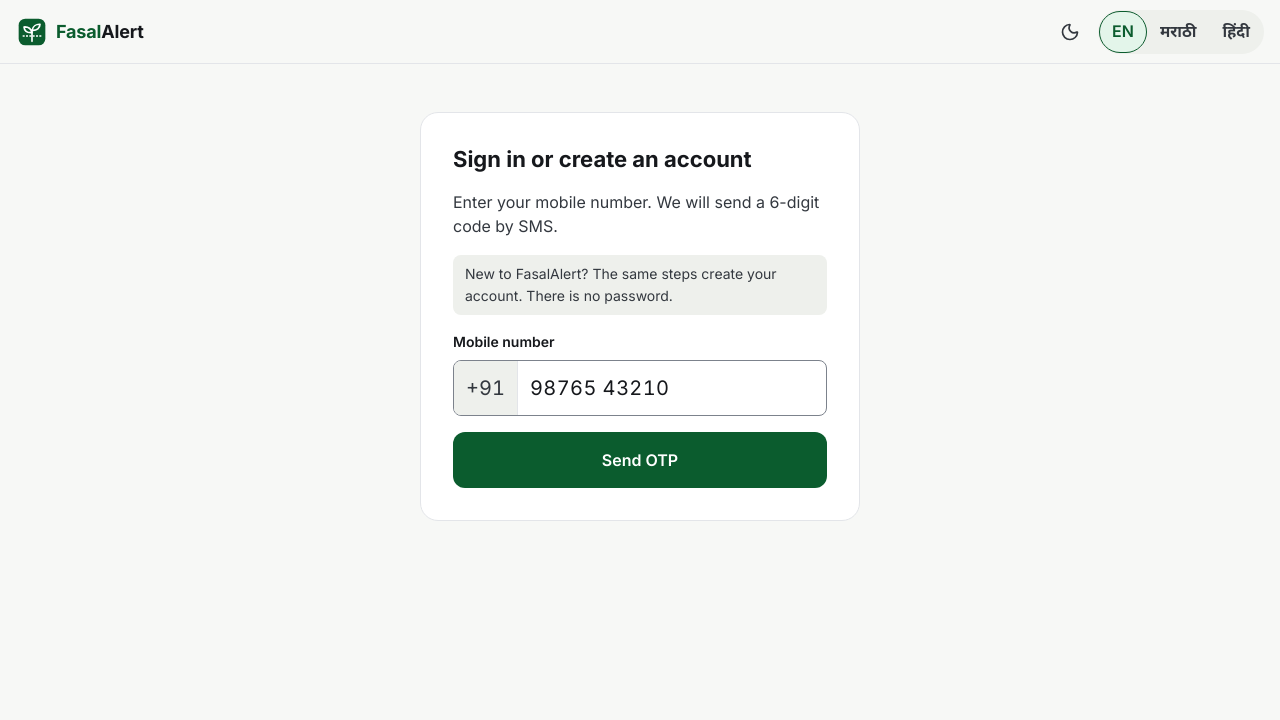
shows the server demo OTP with a copy control when demo_code is returned
Check: the field labelled "Mobile number" holds "98765 43210", box top-left (518, 361), bottom-right (826, 415)
Click the button "Send OTP": (640, 460) top-left (453, 432), bottom-right (827, 488)
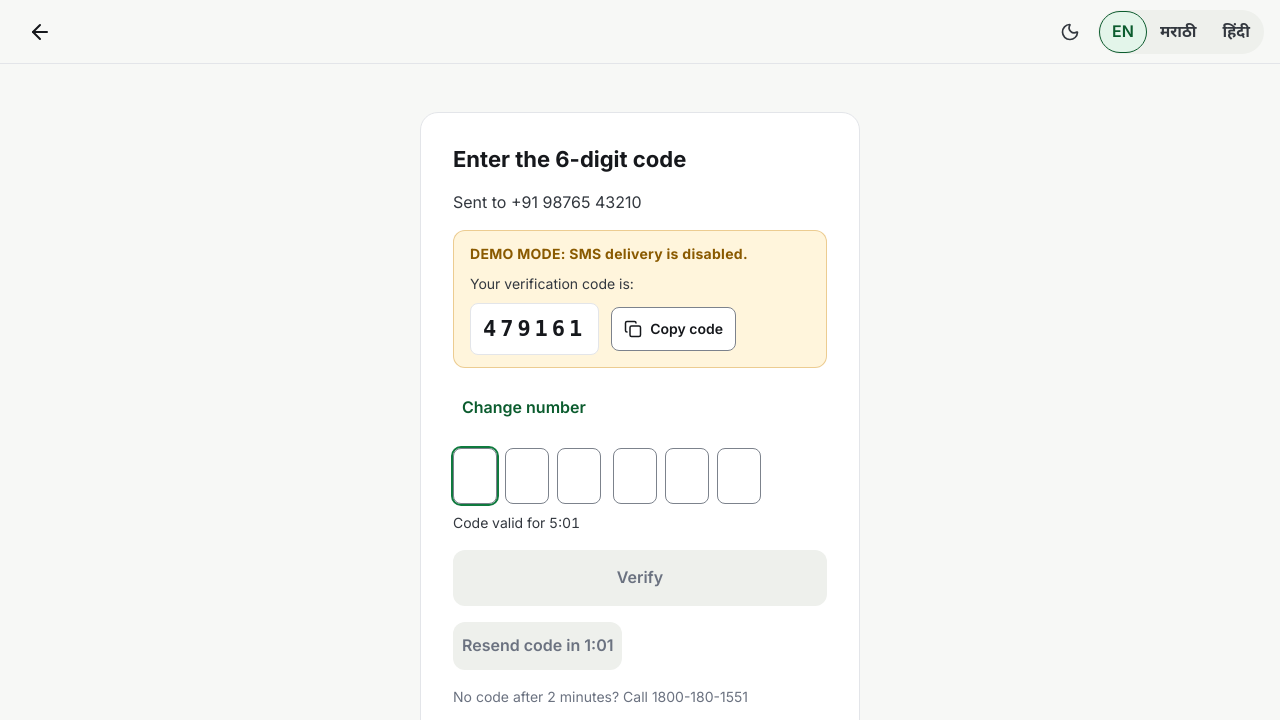
Check: the heading "Enter the 6-digit code" is shown, box top-left (453, 146), bottom-right (686, 172)
Check: the text "DEMO MODE: SMS delivery is disabled." is shown, box top-left (470, 245), bottom-right (748, 262)
Check: the text "479161" is shown, box top-left (470, 303), bottom-right (599, 355)
